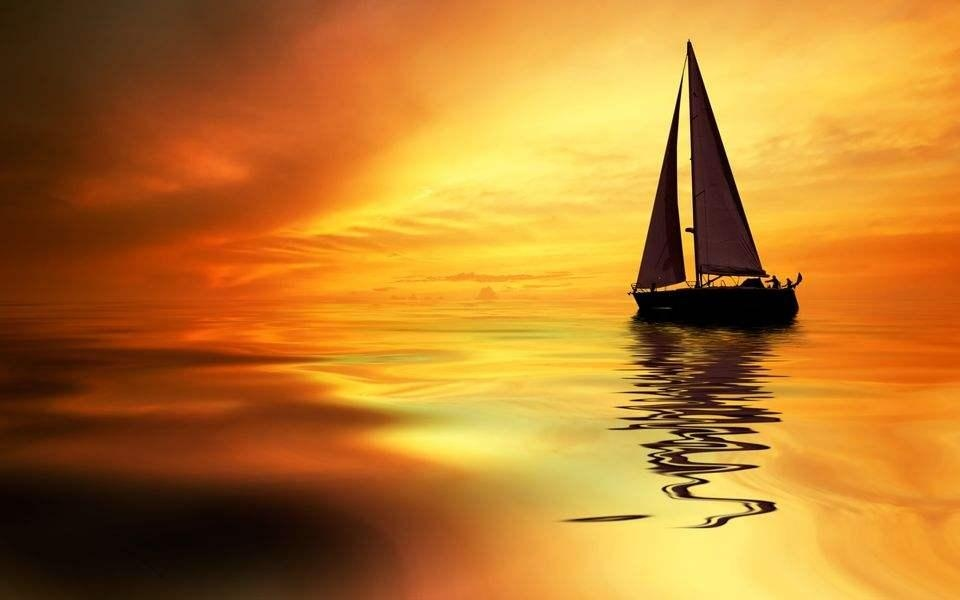fanchuan: (625, 30, 808, 332)
